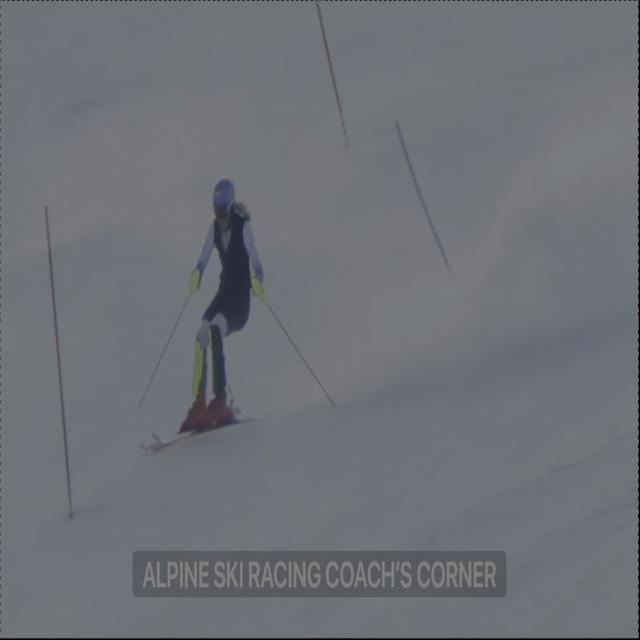gate: (36, 198, 87, 532), (385, 113, 457, 290), (308, 0, 352, 150)
